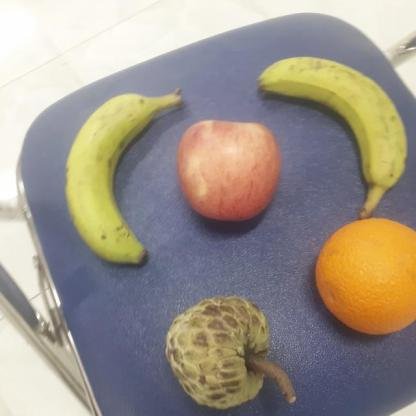annona: (166, 294, 273, 411)
apple: (176, 119, 282, 224)
banana: (257, 49, 411, 192), (64, 88, 181, 264)
orange: (310, 213, 415, 336)
